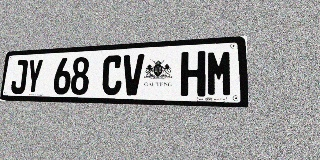6: (53, 57, 73, 95)
8: (70, 57, 90, 95)
C: (101, 55, 123, 95)
H: (180, 51, 206, 96)
J: (10, 60, 28, 94)
M: (206, 50, 233, 97)
V: (122, 54, 144, 96)
Y: (25, 59, 44, 94)
